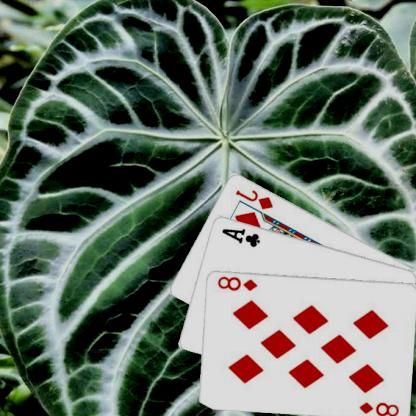8D: (216, 273, 260, 292), (357, 399, 402, 416)
AC: (221, 225, 263, 248)
JD: (234, 187, 276, 211)
